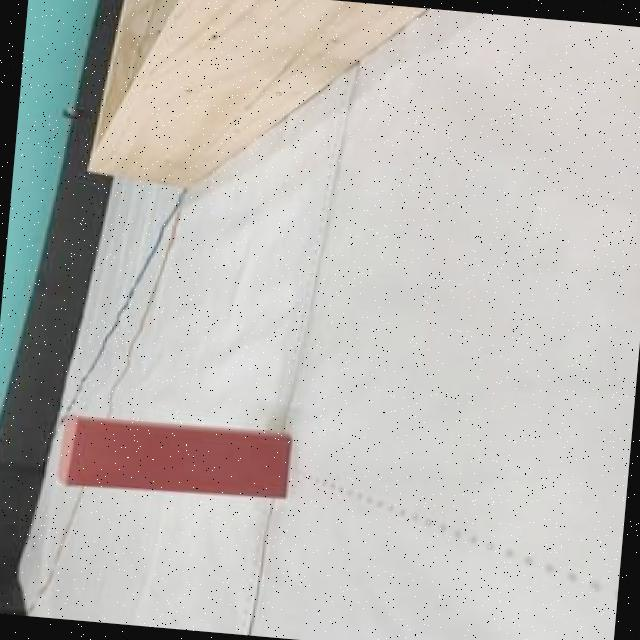redbox: (52, 416, 294, 504)
